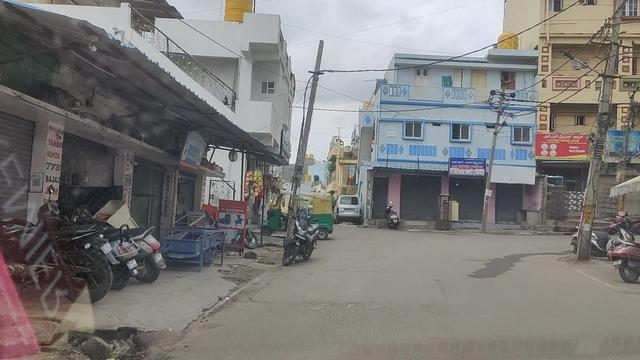RoadDamages: (244, 290, 386, 311)
